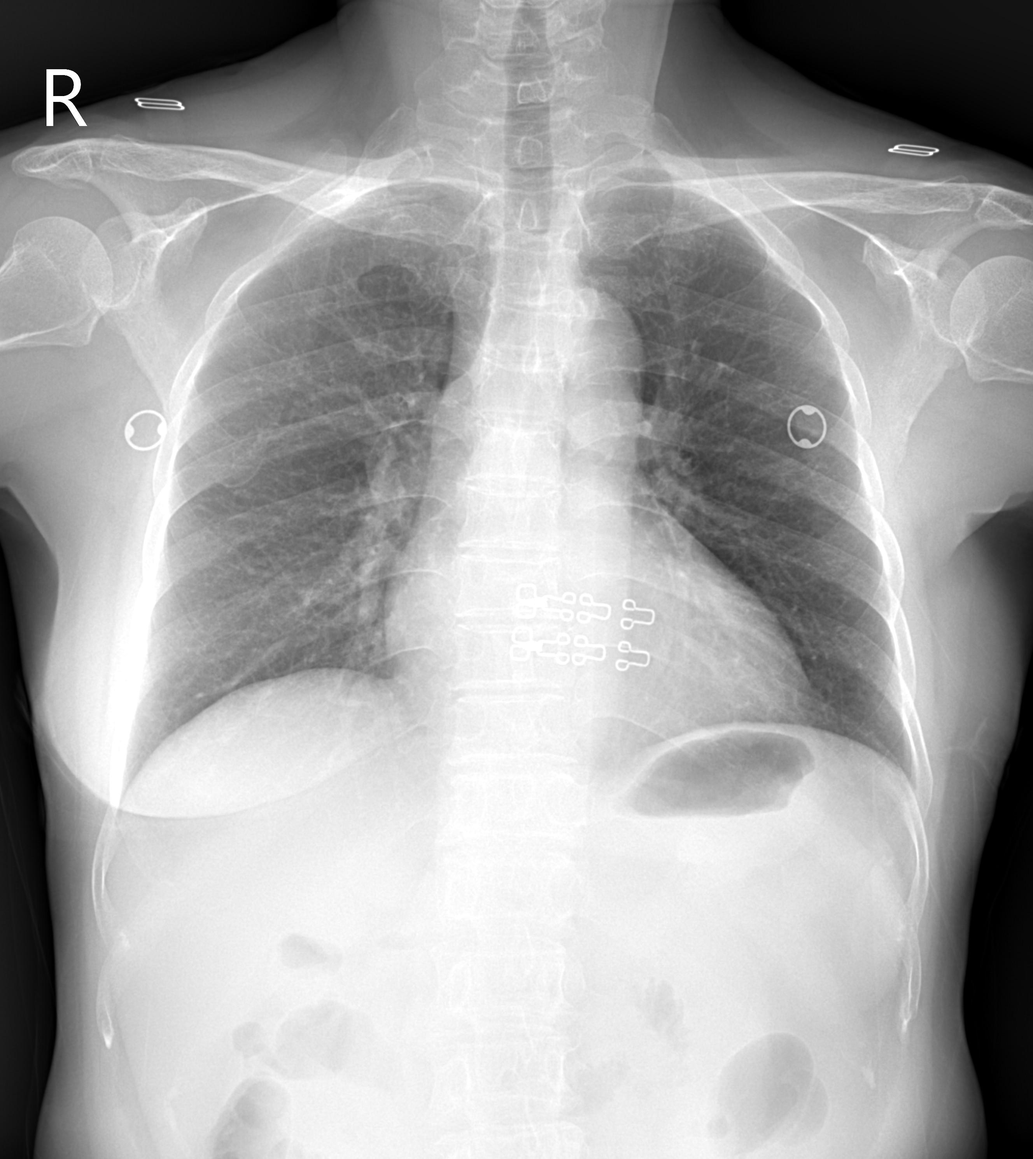Aortic enlargement: (535, 286, 644, 417)
Cardiomegaly: (381, 576, 818, 722)
